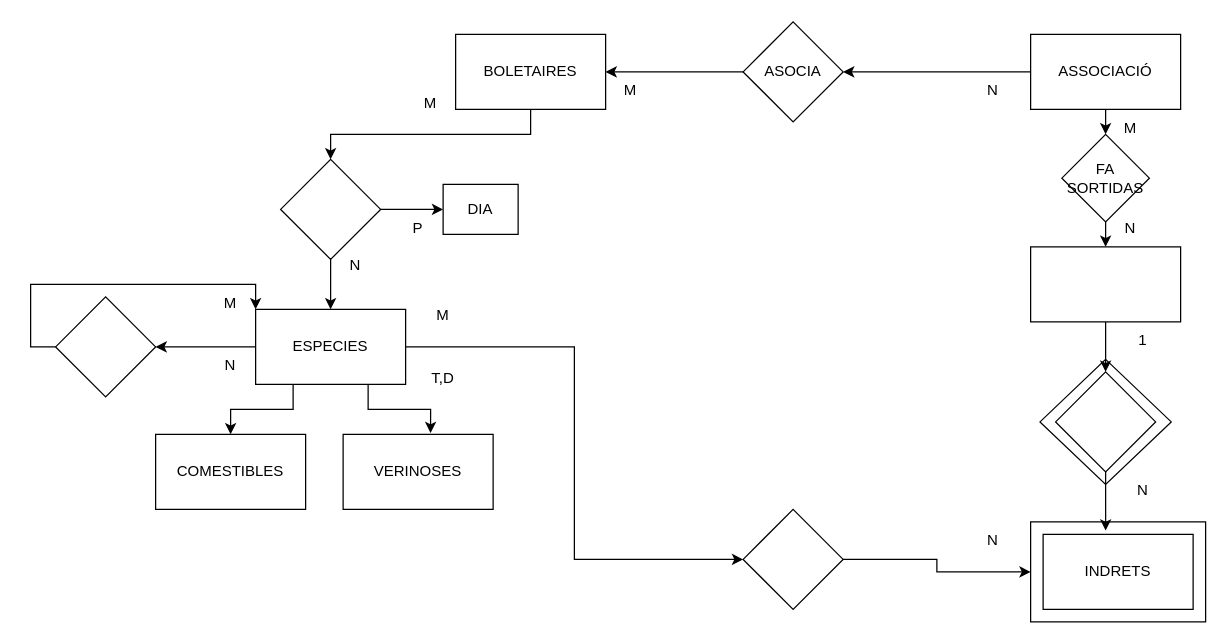
The diagram is 1228 pixels wide and 644 high, and some of its shapes have lost their labels. Each missing label, with the centre of its shape:
CERQUEN: point 330,208
CONVIVE: point 105,346
ES DIVIDEIX: point 1105,421
MUNTANYA: point 1105,284
VIUEN: point 792,558
